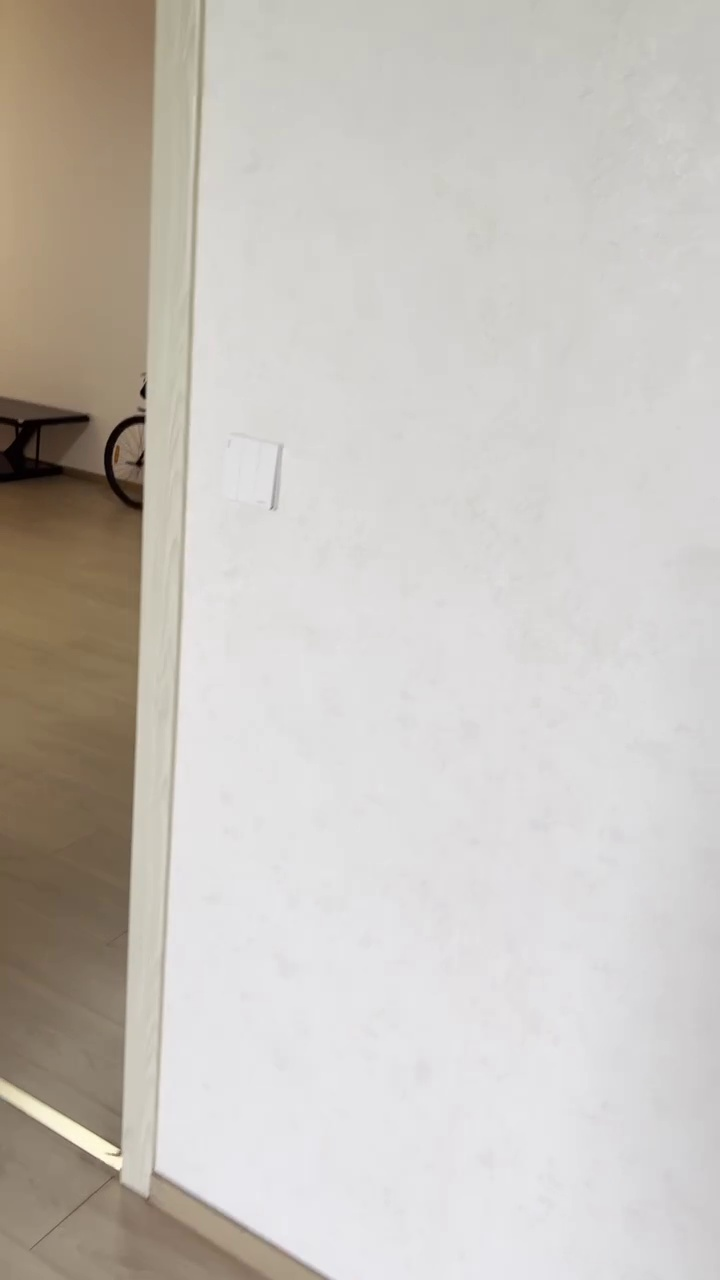button: (217, 431, 287, 515)
